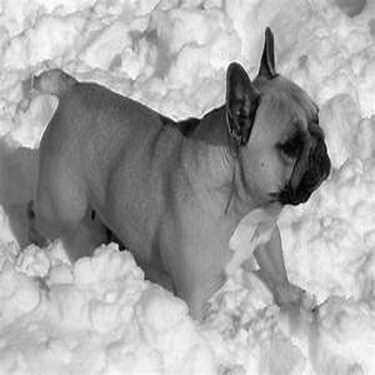dog: (1, 17, 338, 340)
